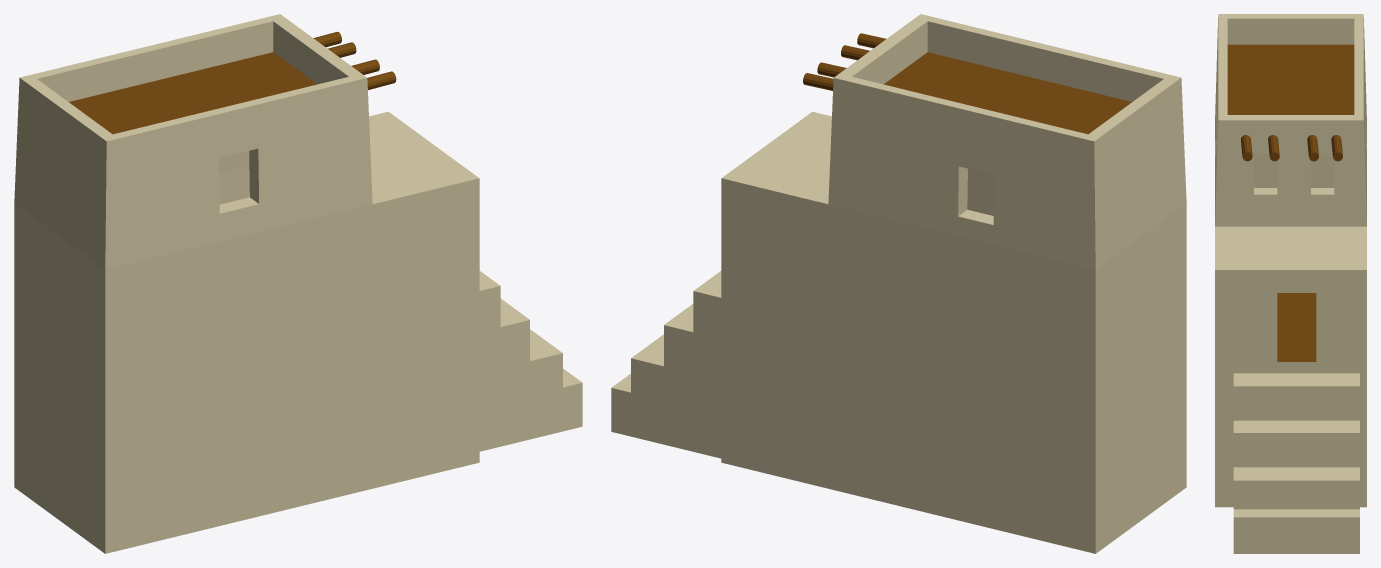
Rendered from shoe1.glb.
3 views of the same model, side by side, from view 1: azimuth 30°, elevation 25°; view 2: azimuth 150°, elevation 25°; view 3: azimuth 270°, elevation 25° (orthographic). The views are drawn at different scales.
Visible parts, largest first — view 1: shoe; view 2: shoe; view 3: shoe.
Boxes of the visible parts, bbox=[...] form: shoe: bbox=[14, 14, 582, 553]; shoe: bbox=[611, 14, 1186, 553]; shoe: bbox=[1215, 14, 1366, 553].
Bounding box in the file's own units: 7.44 × 5.97 × 2.4.
